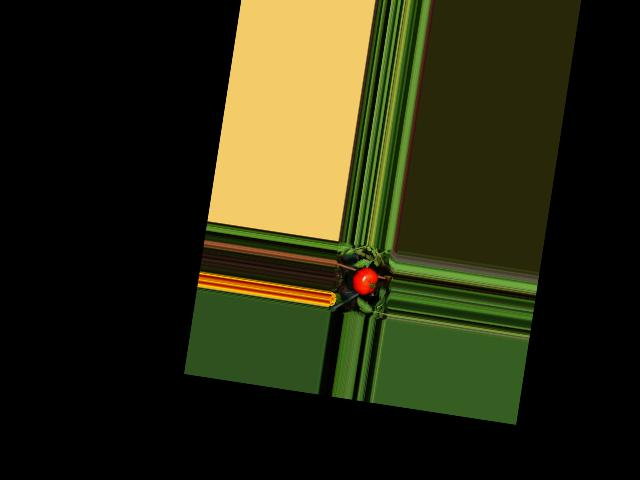tomato: (350, 264, 379, 296)
